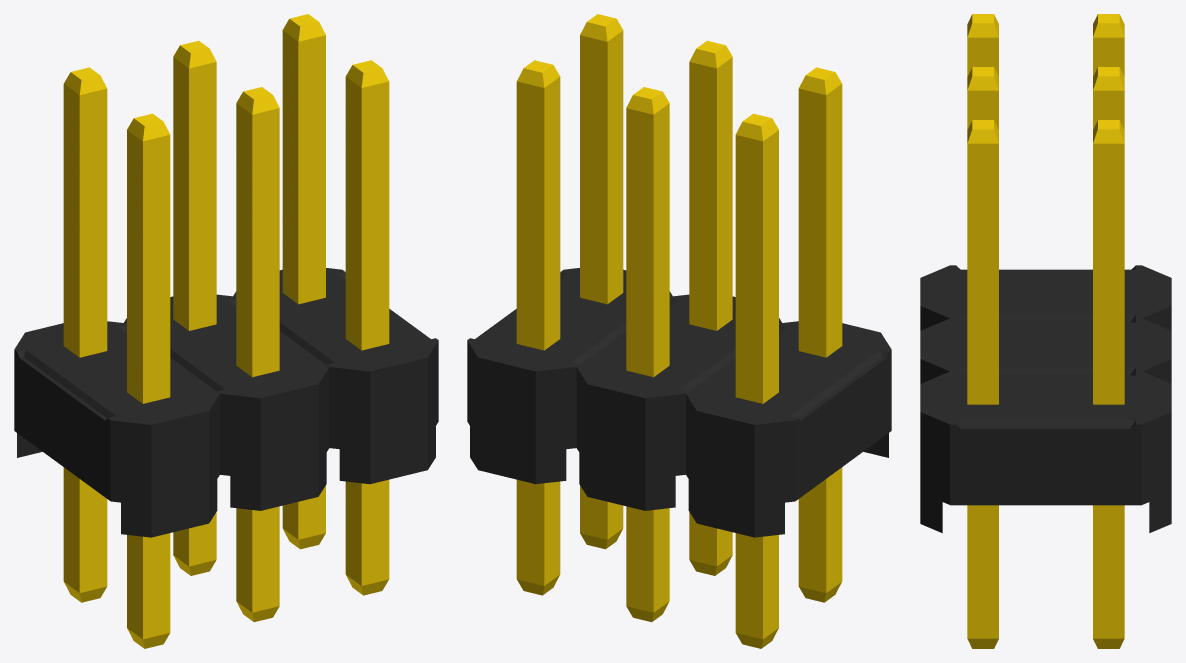
The model's file is PLD6.glb.
3 views of the same model, side by side, from view 1: azimuth 30°, elevation 25°; view 2: azimuth 150°, elevation 25°; view 3: azimuth 270°, elevation 25° (orthographic).
Visible parts, largest first — view 1: PLD (DS1021 CONNFLY); view 2: PLD (DS1021 CONNFLY); view 3: PLD (DS1021 CONNFLY).
Boxes of the visible parts, x1,y1,x2,y2 form: PLD (DS1021 CONNFLY): (14, 14, 438, 648); PLD (DS1021 CONNFLY): (467, 14, 891, 648); PLD (DS1021 CONNFLY): (920, 14, 1171, 648).
Size of the model in its own units: 0.00762 by 0.0116 by 0.00508.
